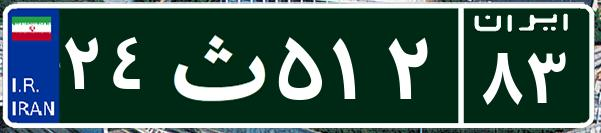1: (330, 28, 385, 110)
2: (385, 28, 445, 110), (57, 26, 110, 107)
3: (525, 38, 570, 115)
4: (110, 28, 158, 105)
5: (273, 28, 330, 110)
8: (475, 38, 525, 113)
ث: (158, 15, 273, 115)
